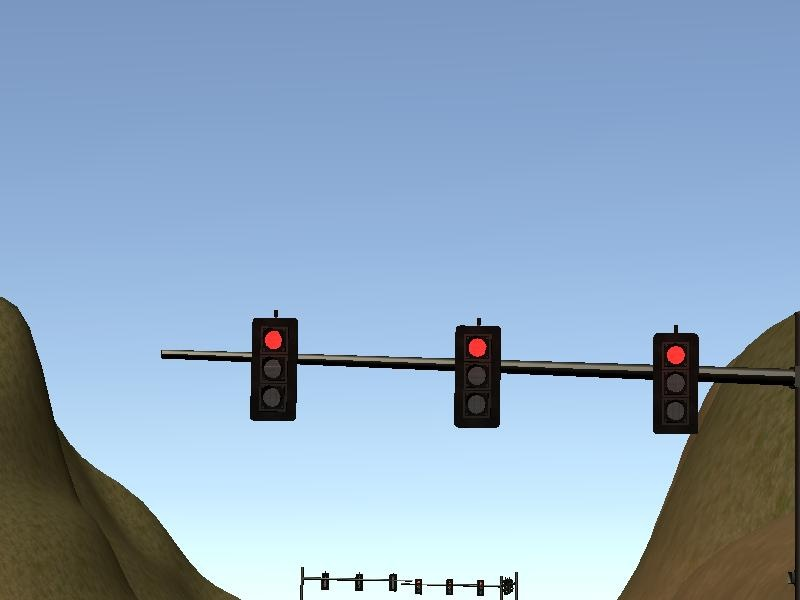red: (251, 319, 299, 421), (653, 333, 699, 434), (455, 327, 501, 428), (414, 578, 424, 596), (477, 579, 486, 597), (446, 580, 453, 595)
